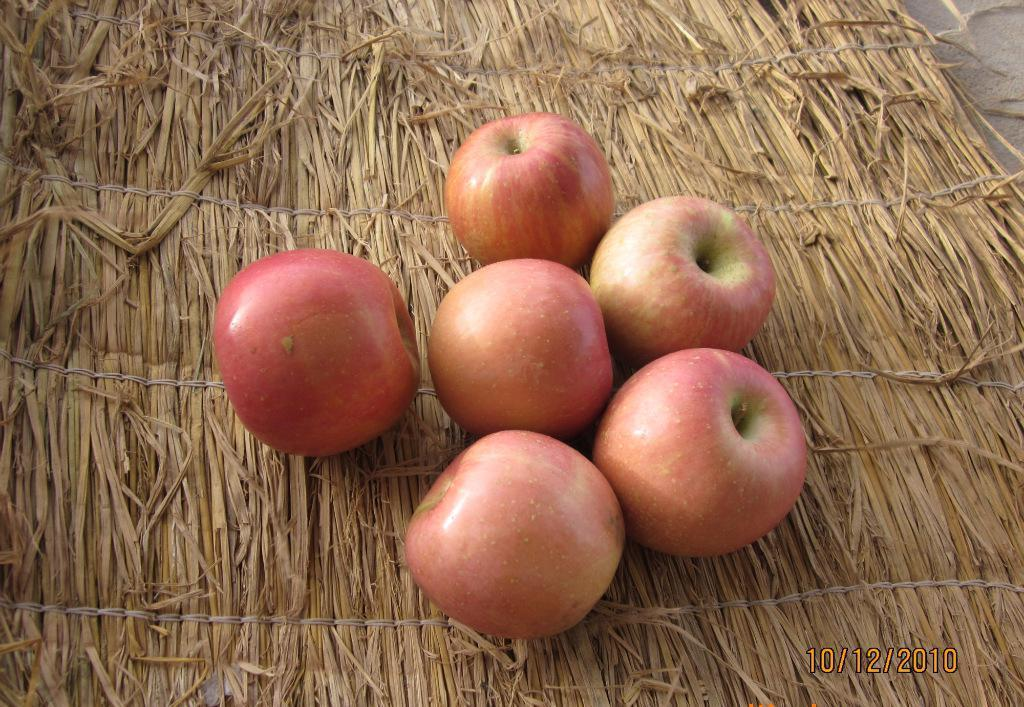apple: (592, 343, 806, 558), (407, 430, 621, 645), (211, 245, 416, 457), (586, 196, 777, 370), (427, 260, 613, 437), (440, 114, 612, 271)
